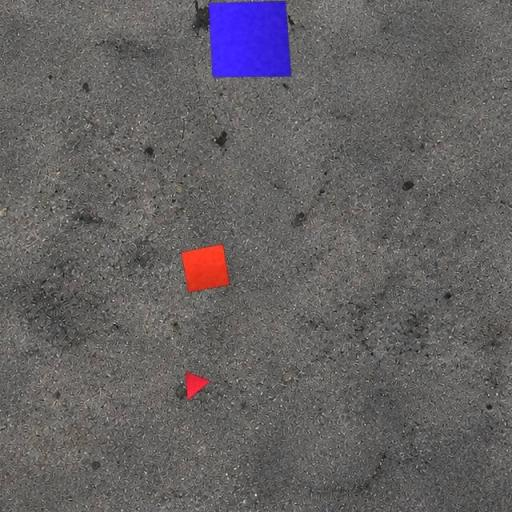BLUE_SQUARE: (207, 0, 292, 78)
RED_SQUARE: (180, 243, 230, 294)
